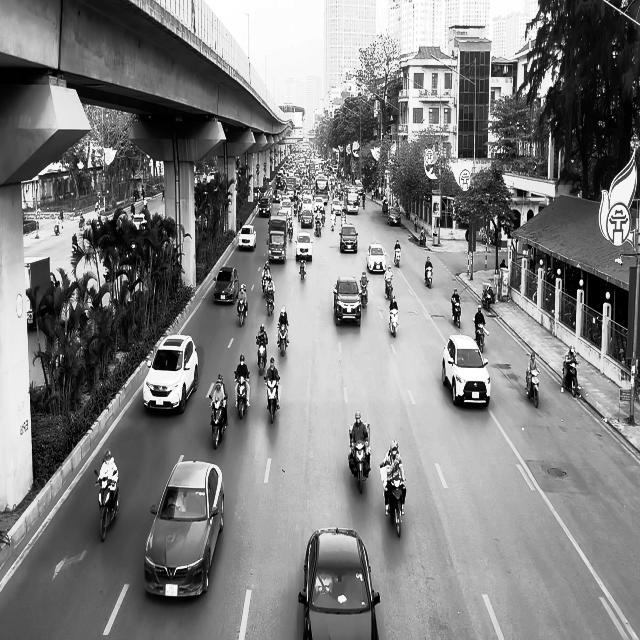car: (143, 455, 225, 599), (298, 526, 381, 640), (143, 334, 199, 414), (442, 334, 491, 407), (333, 275, 362, 326), (213, 265, 239, 304), (366, 243, 386, 273), (339, 223, 358, 253), (295, 232, 313, 260), (238, 225, 257, 250), (388, 206, 401, 226)
motorbike: (94, 468, 120, 542), (380, 463, 406, 537), (348, 423, 372, 494), (210, 395, 228, 449), (234, 371, 251, 419), (561, 361, 582, 398), (265, 376, 281, 423), (526, 368, 541, 408), (278, 320, 290, 356), (475, 323, 489, 353), (257, 338, 268, 375), (237, 297, 248, 326), (389, 307, 399, 337), (452, 299, 462, 328), (482, 285, 493, 310), (359, 280, 368, 308), (266, 288, 274, 316), (299, 254, 307, 279), (425, 267, 433, 288), (394, 245, 401, 268), (385, 280, 393, 299)
